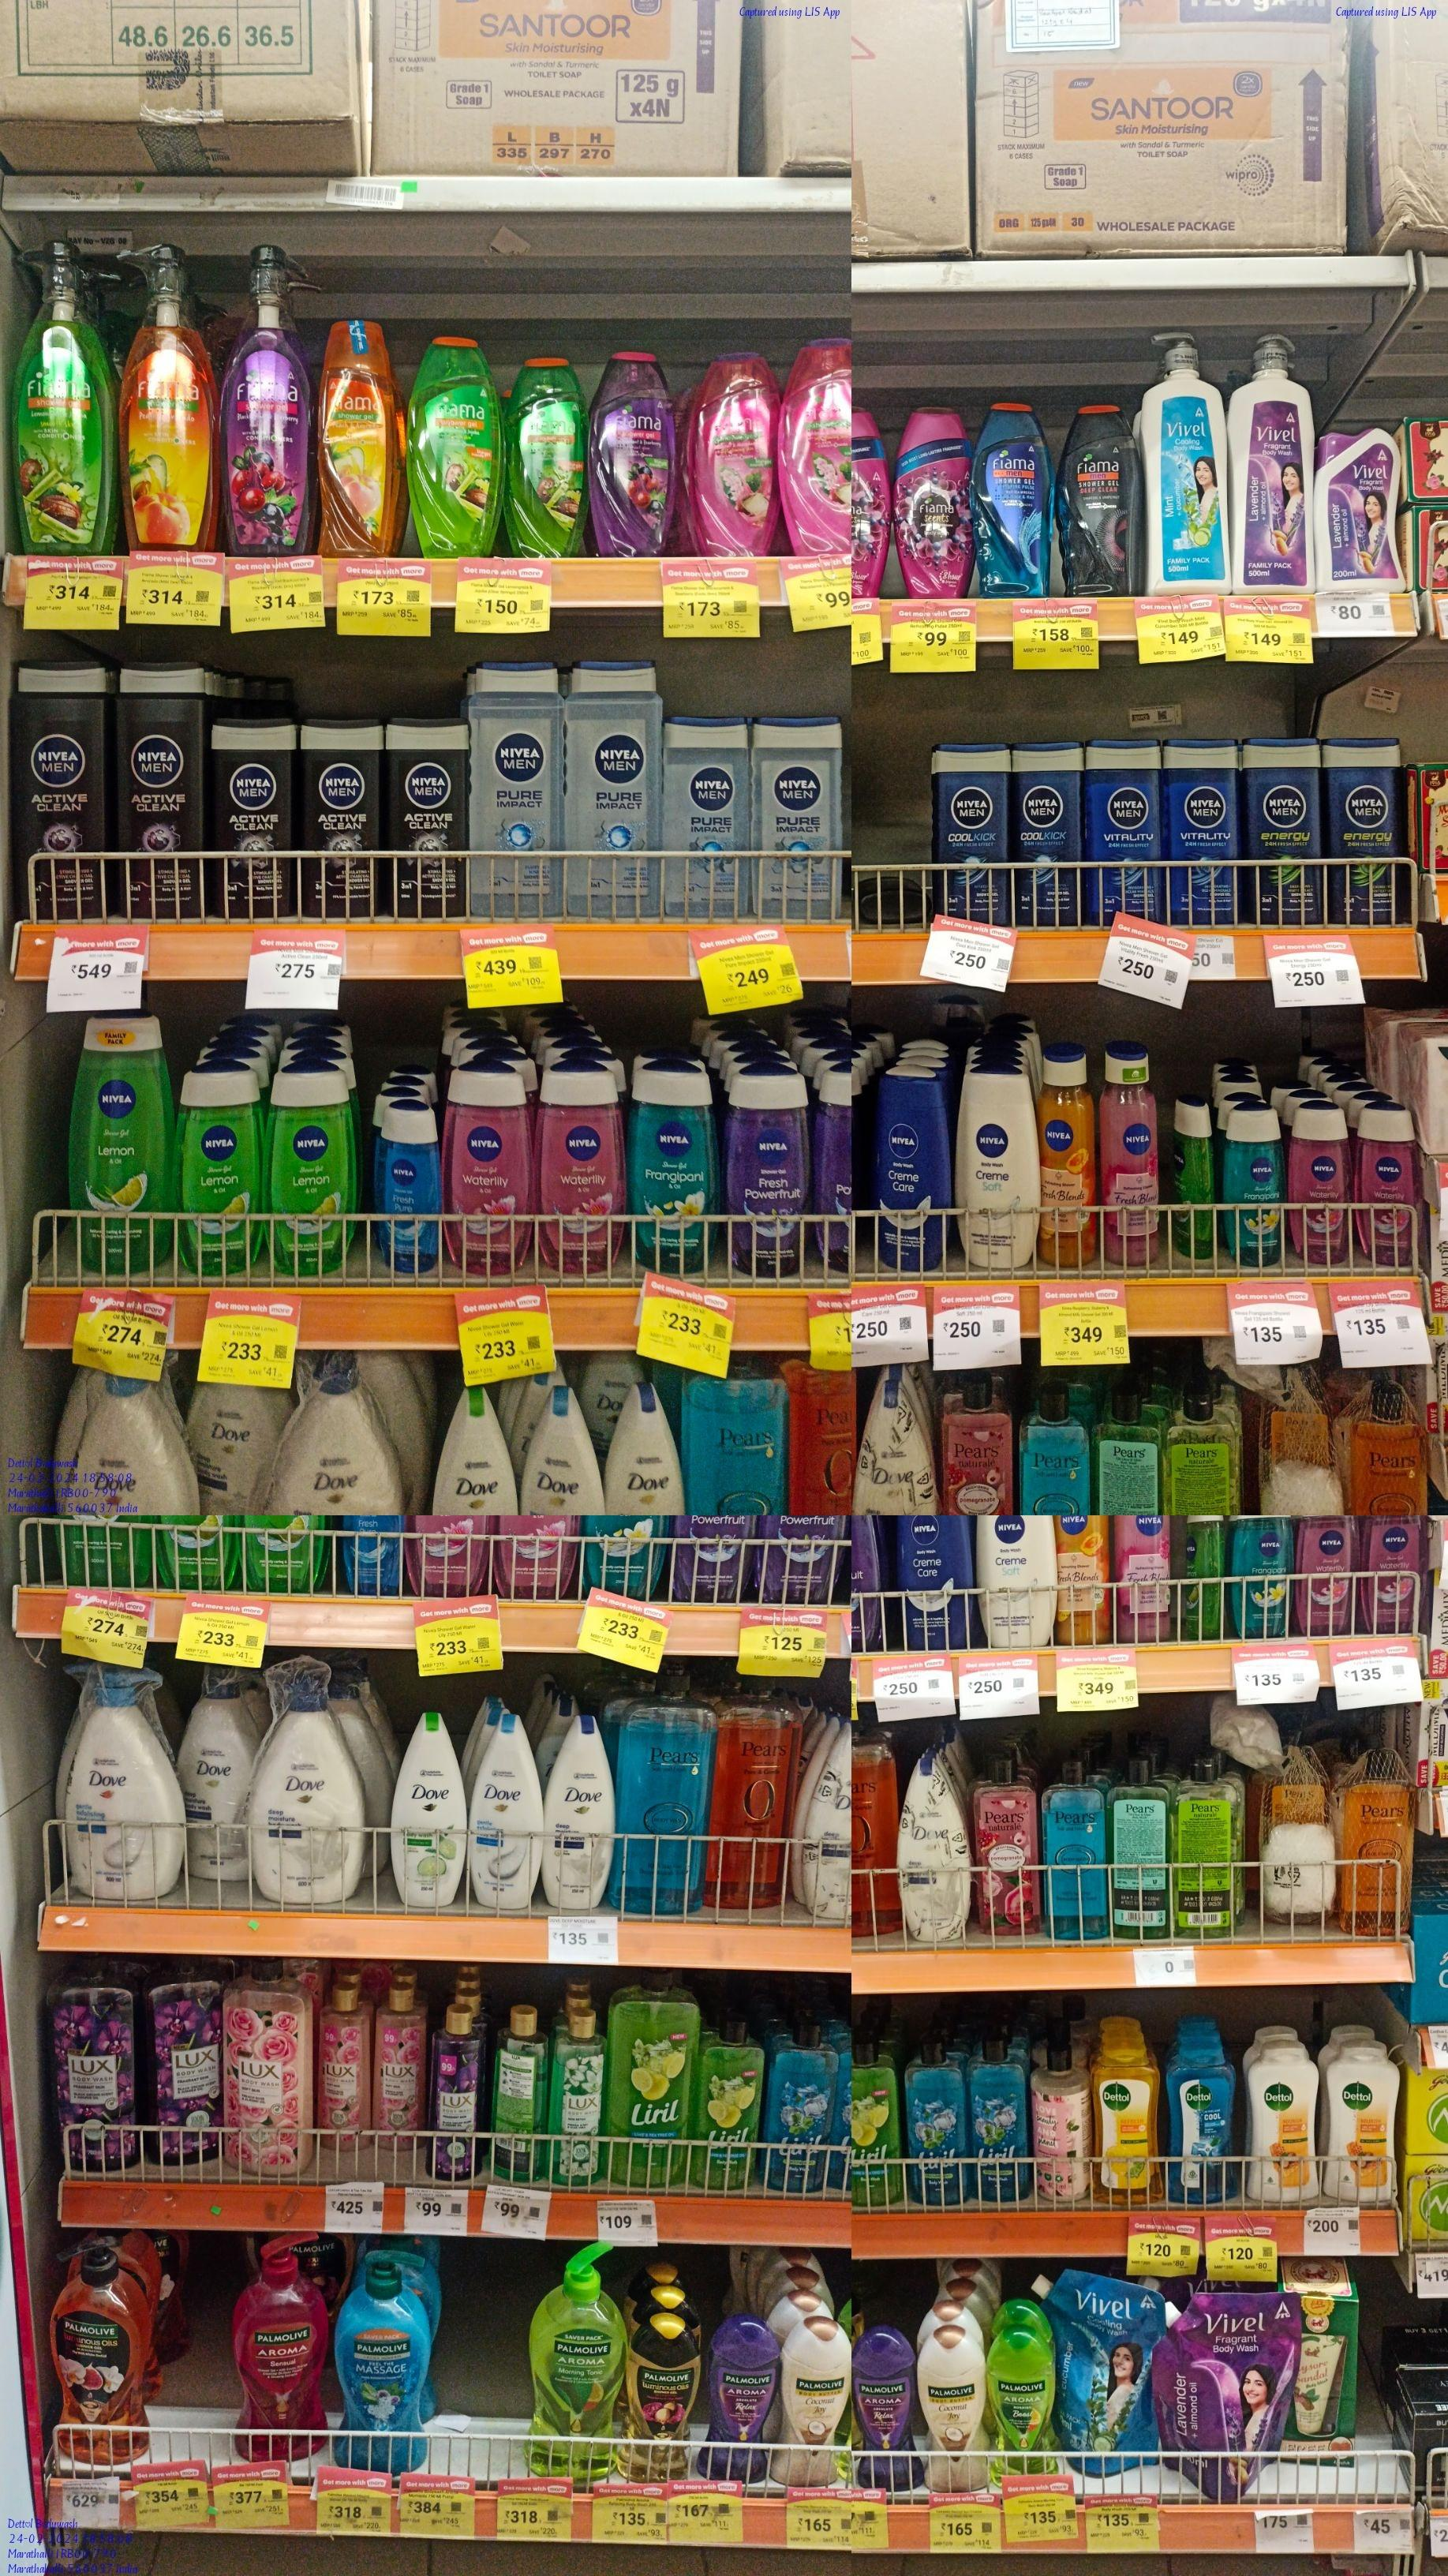Dettol_Bodywash_Cool: (1170, 2043, 1238, 2203)
Dettol_Bodywash_Refresh: (1091, 2036, 1163, 2204)
Dettol_Nourish_Body_Wash_250ML: (1250, 2040, 1317, 2199), (1326, 2049, 1395, 2199)
Dove_Deep_Moisture_Body_Wash_250ML: (548, 1720, 613, 1909), (613, 1387, 684, 1514)
Dove_Gentle_Exfoliating_Body_Wash_250ML: (470, 1713, 543, 1907), (525, 1394, 608, 1513)
Dove_Refreshing_Body_Wash_250ML: (391, 1718, 465, 1907), (437, 1394, 514, 1520)
Fiama_Shower_Gel_Lemongrass_and_Jojoba_250ML: (407, 338, 500, 557), (511, 356, 583, 557)
Fiama_Shower_Gel_Patchouli_and_Macadamia_250ML: (688, 354, 774, 556)
Liril_Cooling_Mint_Body_Wash_250ML: (769, 2020, 836, 2192), (909, 2035, 972, 2203), (974, 2040, 1029, 2197)
Liril_Lime_and_Tea_Tree_Oil_Body_Wash_250ML: (698, 2019, 760, 2189)
Lux_Black_Orchid_Scent_and_Juniper_Oil_Body_Wash_245ML: (435, 2010, 481, 2180)
Lux_Body_Wash_Skin_Detox_Freesia_Scent_and_Alove_Vera_245ML: (548, 2010, 603, 2187)
Nivea_Shower_Gel_Frangipani_and_Oil_250ML: (636, 1070, 716, 1272)
Nivea_Shower_Gel_Fresh_Powerfruit_250ML: (732, 1072, 810, 1274)
Nivea_Shower_Gel_Lemon_and_Oil_250ML: (81, 1021, 173, 1276), (269, 1062, 350, 1276), (180, 1069, 258, 1272)
Nivea_Shower_Gel_Waterlily_and_Oil_250ML: (543, 1069, 628, 1270), (447, 1067, 529, 1270)
Palmolive_Aroma_Morning_Tonic_Shower_Gel_250ML: (992, 2327, 1057, 2486)
Palmolive_Aroma_Relax_250ML: (709, 2327, 780, 2479), (854, 2334, 918, 2489)
Palmolive_Coconut_Joy_Exfoliating_Body_Wash_250ML: (781, 2319, 854, 2488), (919, 2332, 988, 2495)
Palmolive_Luminous_Oils_Invigorating_Macadamia_Oil_With_Peony_250ML: (628, 2321, 698, 2480)
